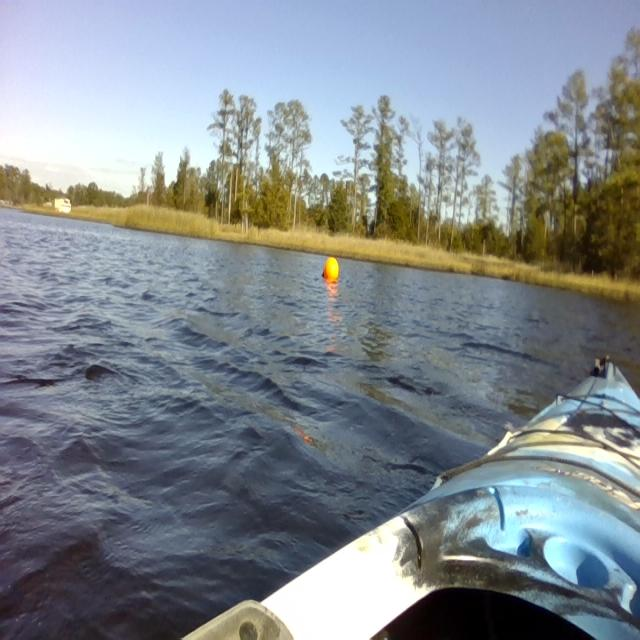Buoy: (318, 247, 344, 292)
